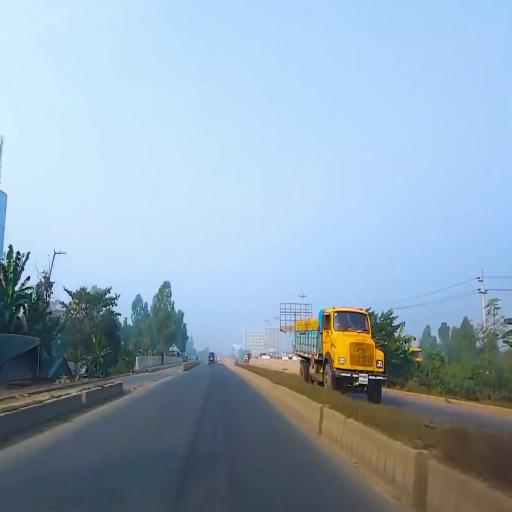suv: (209, 352, 216, 364)
truck: (294, 308, 384, 402)
